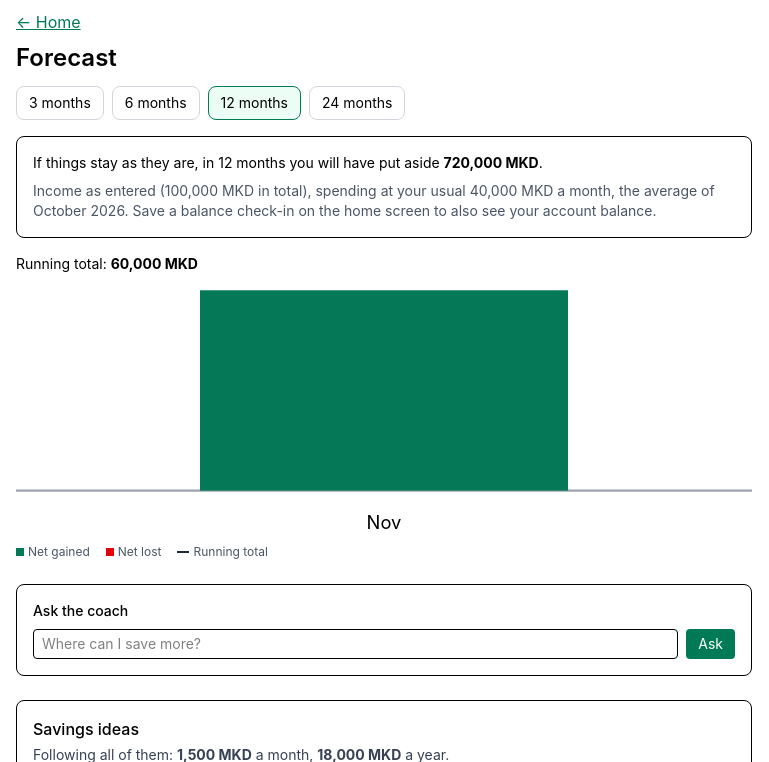
Test case: ForecastPage › asks the coach and shows the answer with its reason
In the field named "Your question": (356, 644) x1=33 y1=629 x2=678 y2=659, type "Where can I save?"
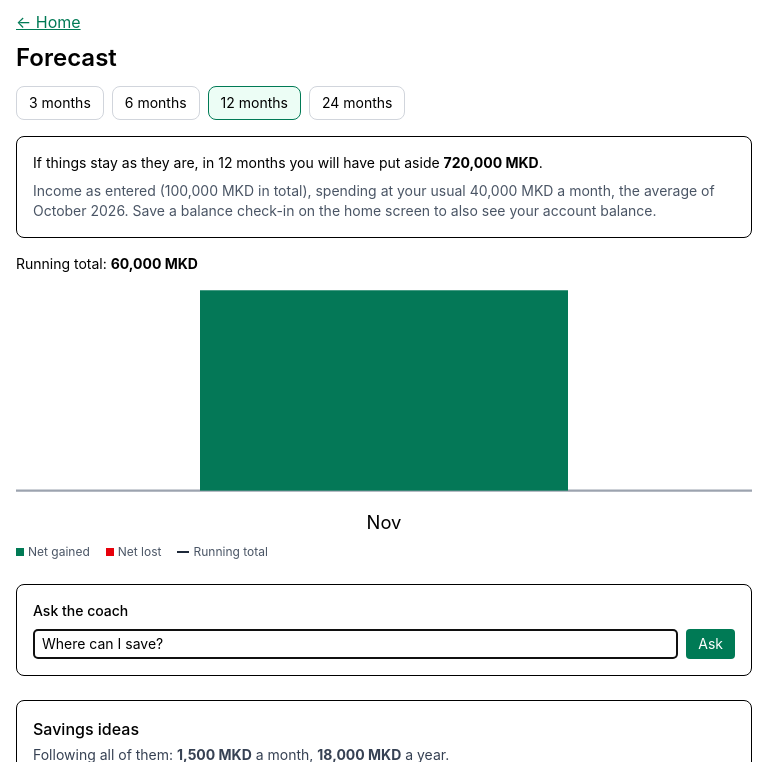
Click the button "Ask": click(711, 644) x1=686 y1=629 x2=735 y2=659
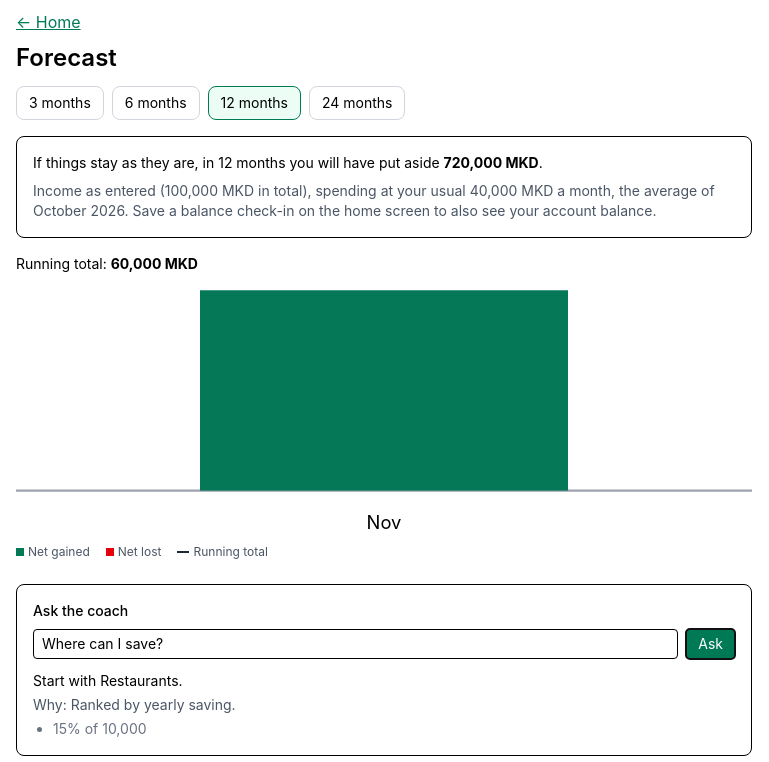
expect the text "Start with Restaurants." is shown: met, box x1=33 y1=672 x2=183 y2=689
expect the text "Why: Ranked by yearly saving." is shown: met, box x1=33 y1=696 x2=236 y2=713
